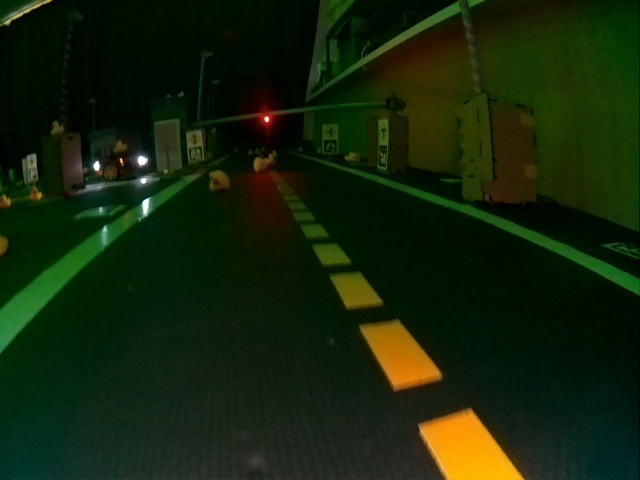Duckie: (210, 170, 228, 190), (30, 187, 42, 199), (51, 122, 63, 133), (254, 157, 264, 170), (115, 141, 127, 151)
Duckiebot: (94, 153, 149, 181)
Intersection sign: (379, 122, 388, 142), (324, 126, 337, 138)
QR code: (77, 205, 118, 218), (377, 145, 387, 168), (189, 147, 203, 161), (323, 140, 337, 153)
Signal sign: (188, 133, 201, 145)
Traffic light: (262, 114, 272, 125)
